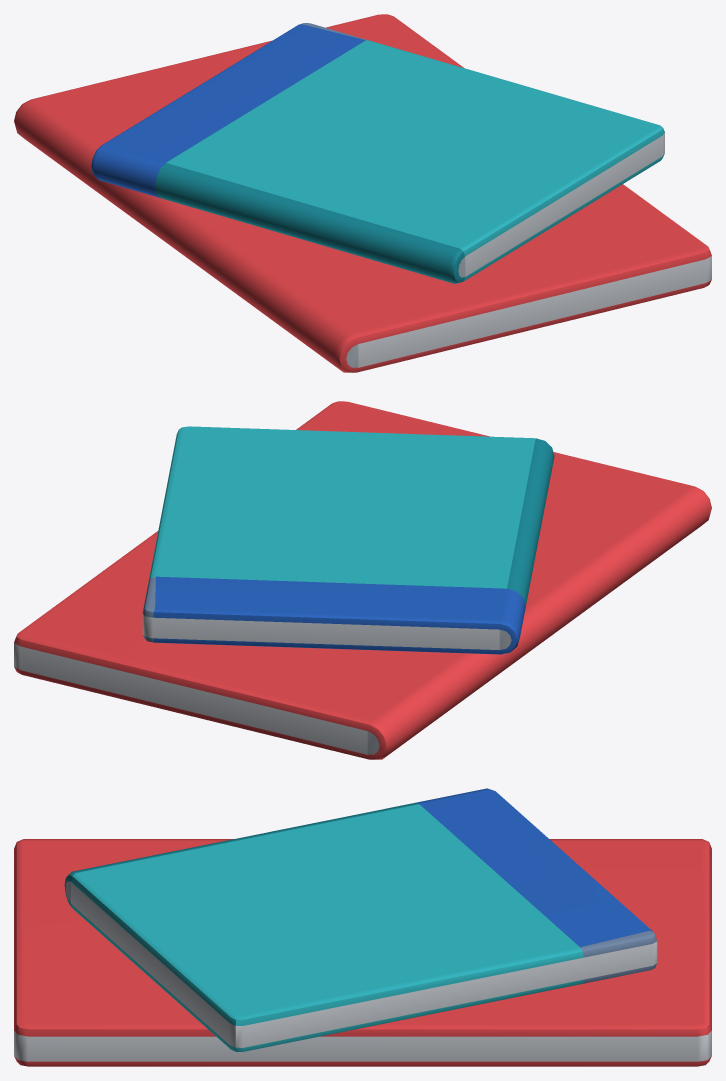
Rendered from livros_natal_dois_deitados_pacote.glb.
The picture shows the model from 3 angles, top to bottom: view 1: azimuth 30°, elevation 25°; view 2: azimuth 150°, elevation 25°; view 3: azimuth 270°, elevation 25°; orthographic projection. The views are drawn at different scales.
Parts seen in each view (by area): view 1: livros_natal_dois_deitados_pacote; view 2: livros_natal_dois_deitados_pacote; view 3: livros_natal_dois_deitados_pacote.
Boxes of the visible parts, x1,y1,x2,y2 form: livros_natal_dois_deitados_pacote: (14,14,711,372); livros_natal_dois_deitados_pacote: (14,401,711,759); livros_natal_dois_deitados_pacote: (14,788,711,1066).
Size of the model in its own units: 0.1925 by 0.0299 by 0.24.
1 material, 1 textured.
